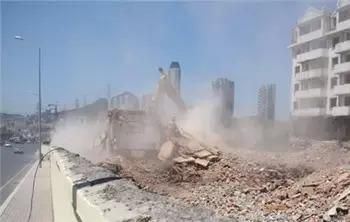dust: (180, 93, 222, 147)
